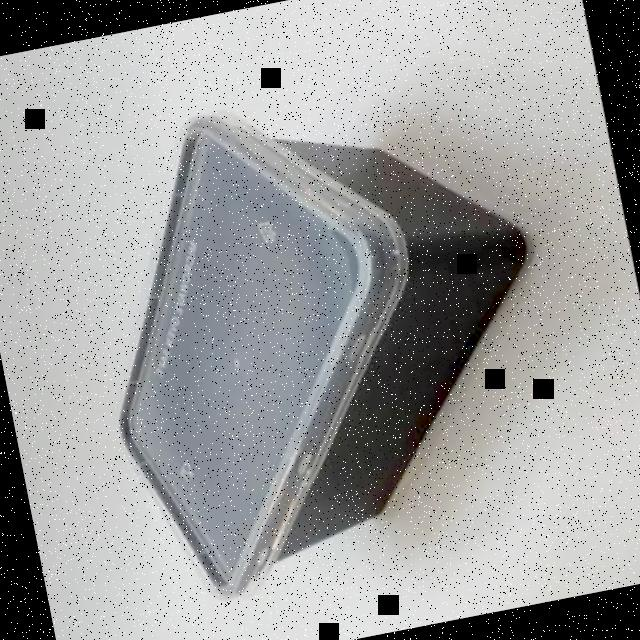plastic_box: (63, 61, 588, 604)
